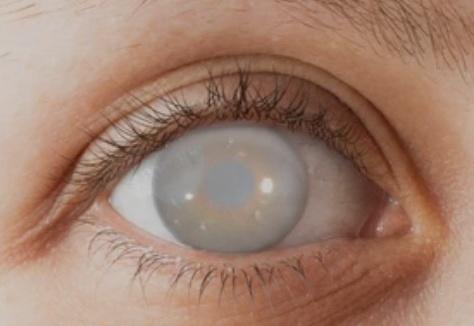eye: (158, 123, 311, 253)
